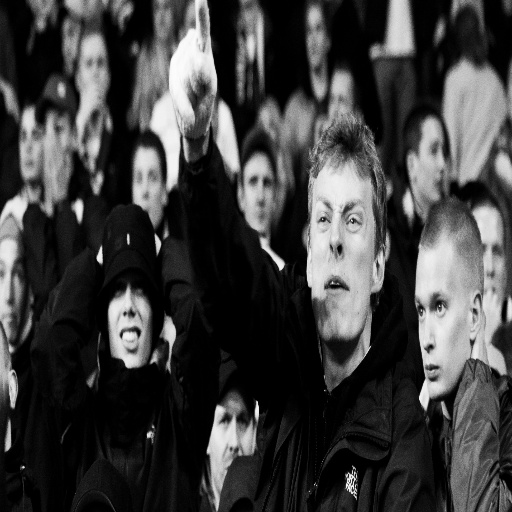hand: (161, 22, 220, 175), (45, 115, 67, 202), (77, 72, 105, 138), (470, 305, 490, 368), (42, 131, 54, 217)
